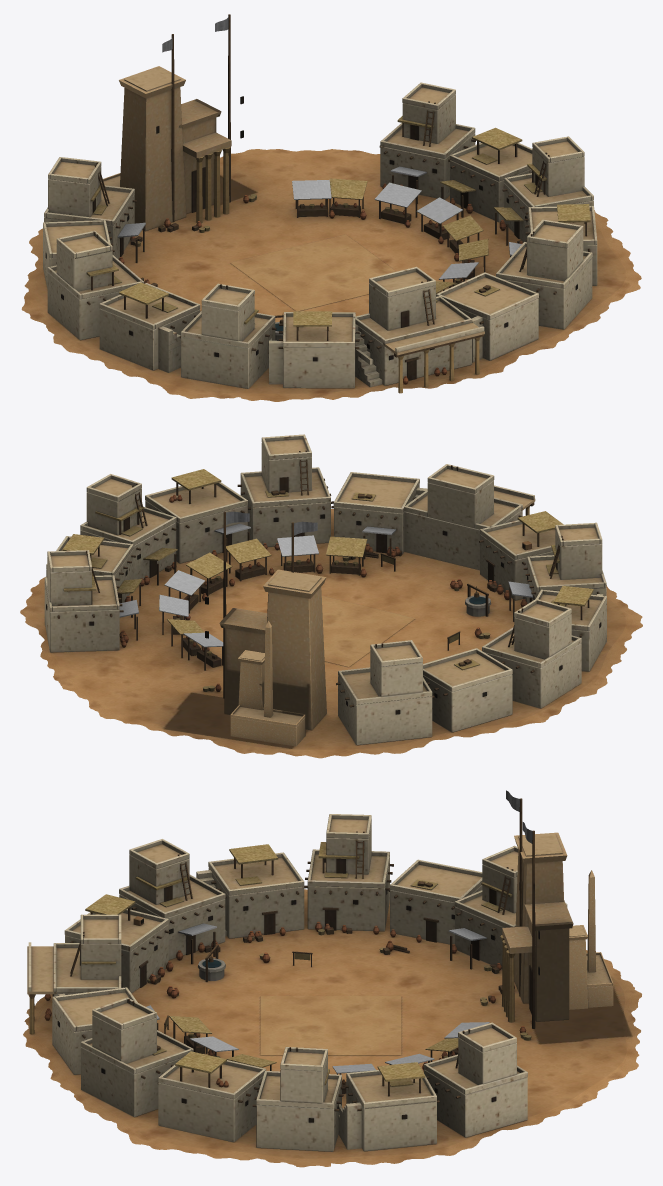
File: bronze-town-medium-b.glb
3 views of the same model, one above another, from view 1: azimuth 30°, elevation 25°; view 2: azimuth 150°, elevation 25°; view 3: azimuth 270°, elevation 25° (orthographic). The views are drawn at different scales.
Parts seen in each view (by area): view 1: LOD0; view 2: LOD0; view 3: LOD0.
Part boxes in pixels (left/top/right/bottom): LOD0: left=21, top=14, right=641, bottom=401; LOD0: left=20, top=434, right=642, bottom=758; LOD0: left=23, top=790, right=641, bottom=1167.
Size of what is drawn, in the model's own units: 5.92 by 1.95 by 5.6.
Materials: 3 (3 with a texture image).
